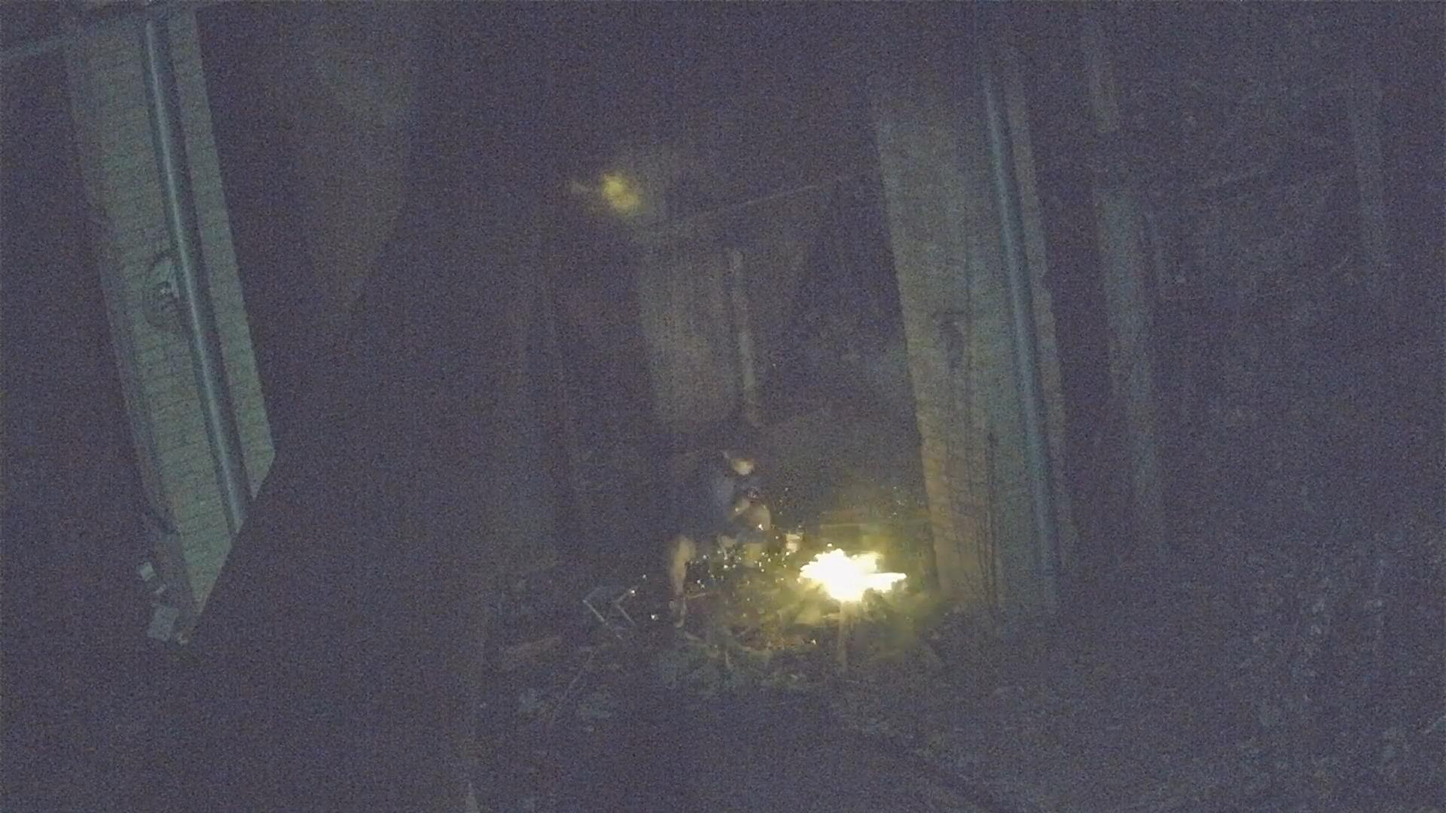fire: (800, 549, 906, 603)
